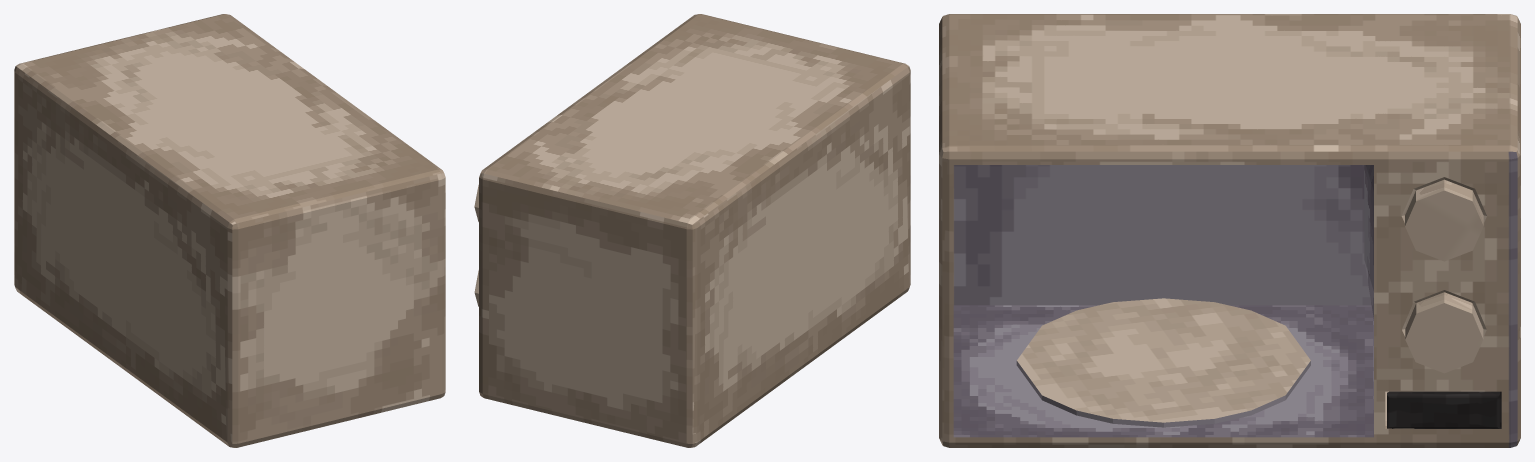
The model's file is Microondas.fbx.
3 renders of one model, left to right at view 1: azimuth 30°, elevation 25°; view 2: azimuth 150°, elevation 25°; view 3: azimuth 270°, elevation 25°, orthographic. The views are drawn at different scales.
Visible parts, largest first — view 1: Micro; view 2: Micro; view 3: Micro.
Boxes of the visible parts, x1,y1,x2,y2 form: Micro: [14, 14, 445, 447]; Micro: [474, 14, 910, 447]; Micro: [939, 14, 1520, 447].
Size of the model in its own units: 192 by 180 by 315.
Materials: 1 (1 with a texture image).
